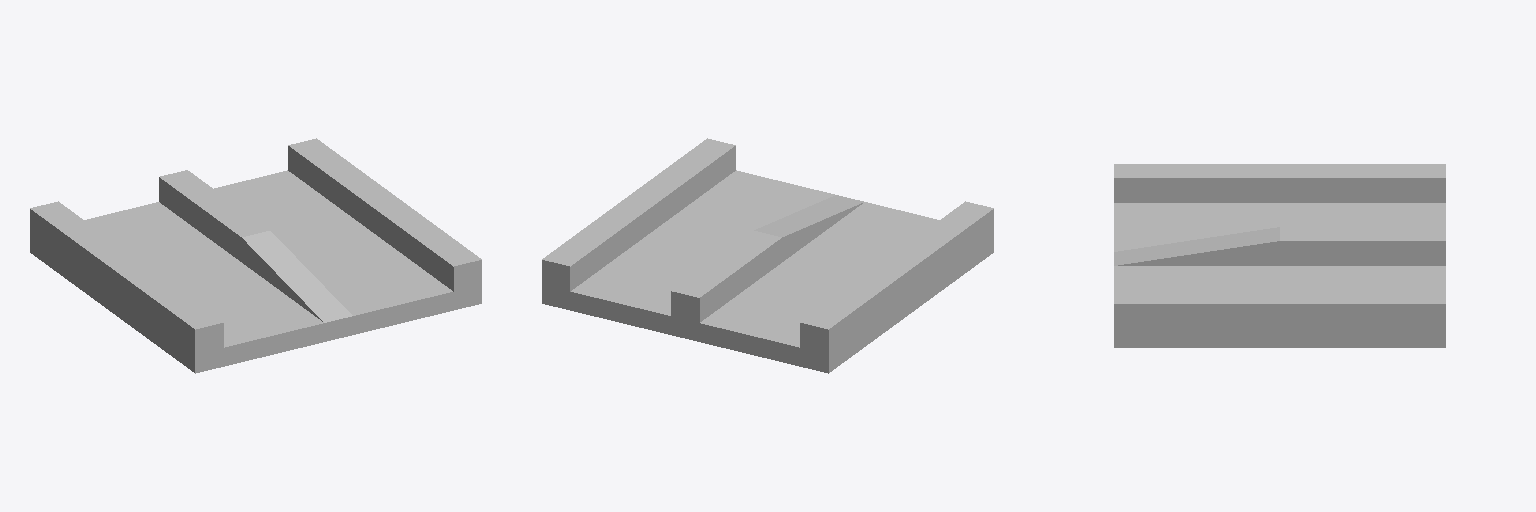
File: Split_start_01.obj
3 views of the same model, side by side, from view 1: azimuth 30°, elevation 25°; view 2: azimuth 150°, elevation 25°; view 3: azimuth 270°, elevation 25° (orthographic).
Parts seen in each view (by area): view 1: Mesh1 Split_start Model; view 2: Mesh1 Split_start Model; view 3: Mesh1 Split_start Model.
Boxes of the visible parts, x1=… form: Mesh1 Split_start Model: x1=30, y1=138, x2=481, y2=373; Mesh1 Split_start Model: x1=542, y1=138, x2=993, y2=373; Mesh1 Split_start Model: x1=1114, y1=164, x2=1445, y2=347.
Size of the model in its own units: 3 by 0.44 by 3.